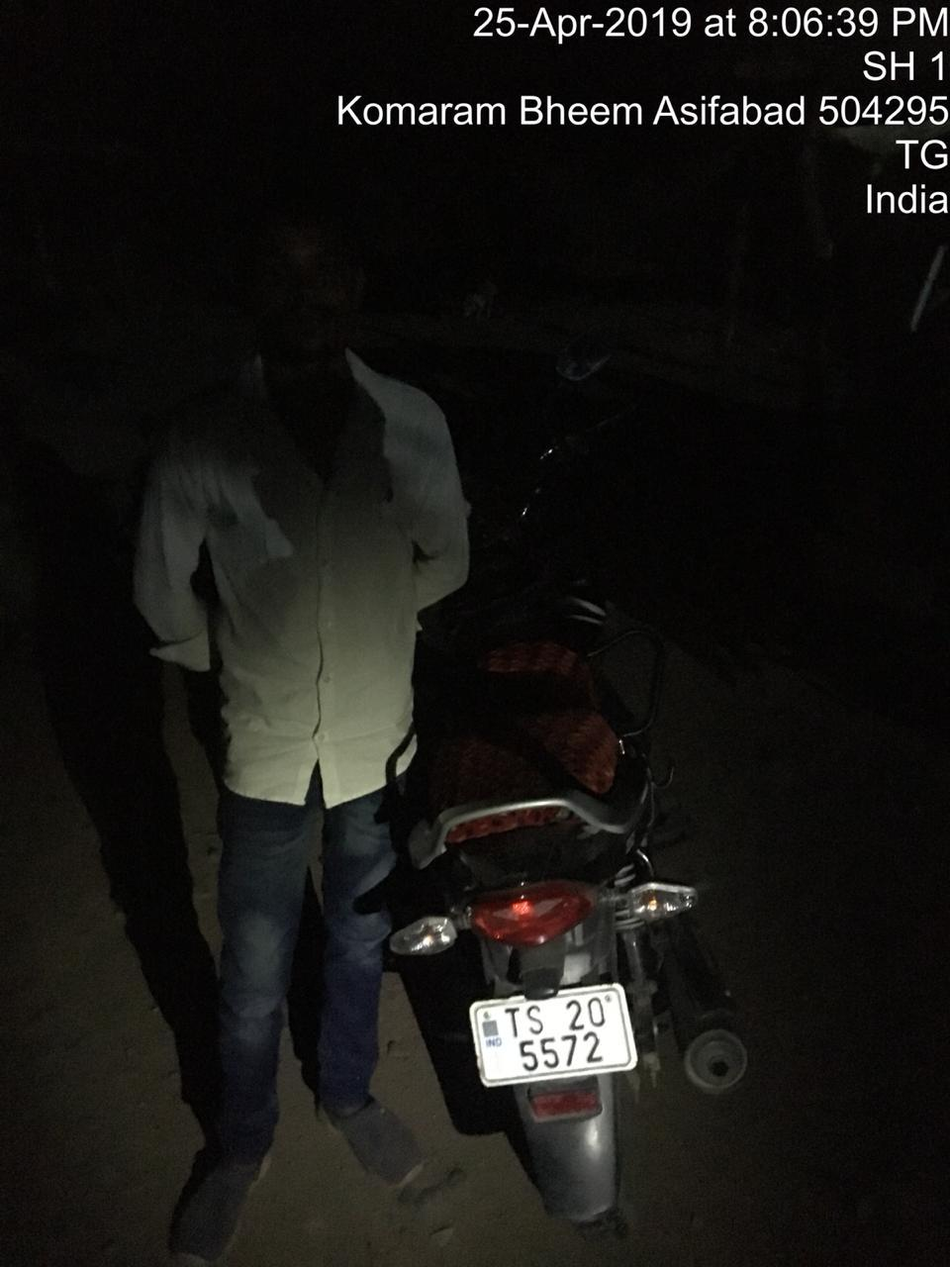plate: (437, 971, 671, 1107)
